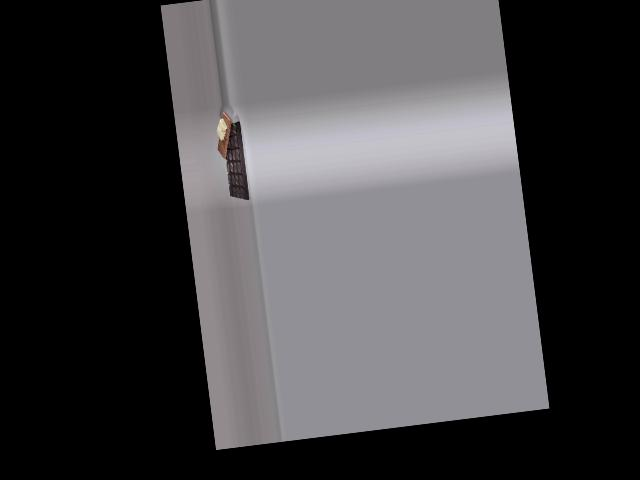chocolate: (217, 116, 252, 202)
